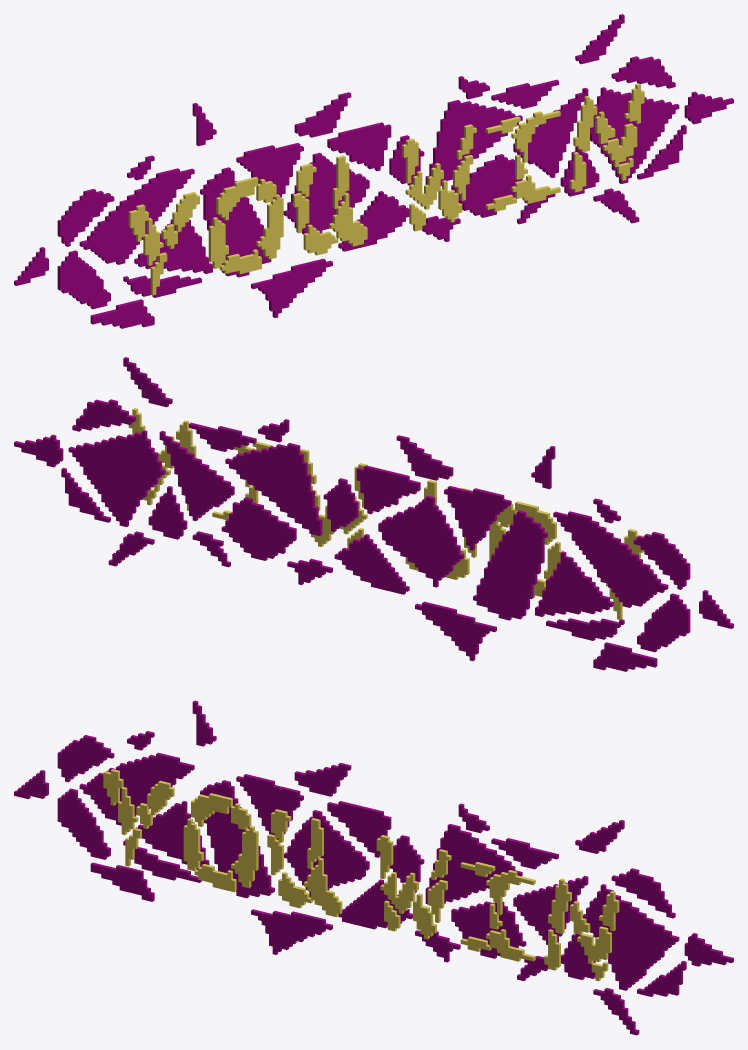
Rendered from win_text.obj.
The picture shows the model from 3 angles, top to bottom: view 1: azimuth 30°, elevation 25°; view 2: azimuth 150°, elevation 25°; view 3: azimuth 330°, elevation 25°; orthographic projection.
Bounding box in the file's own units: 19.7 × 6.1 × 0.7.
1 material, 1 textured.
